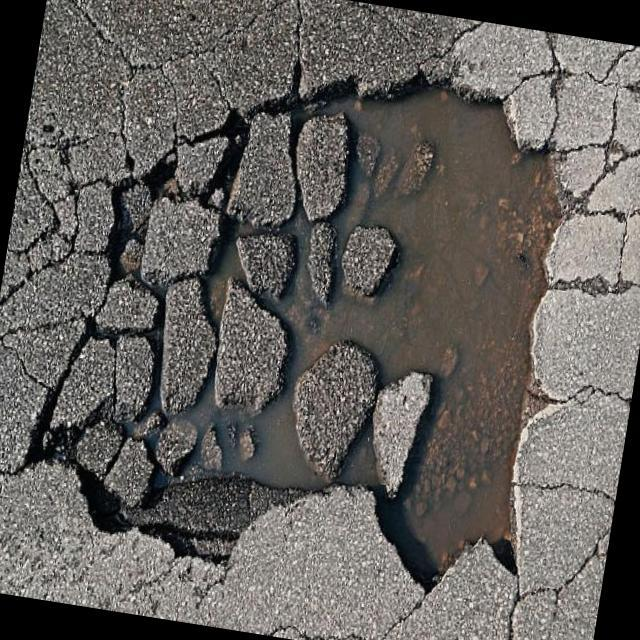Pothole: (42, 88, 560, 584)
